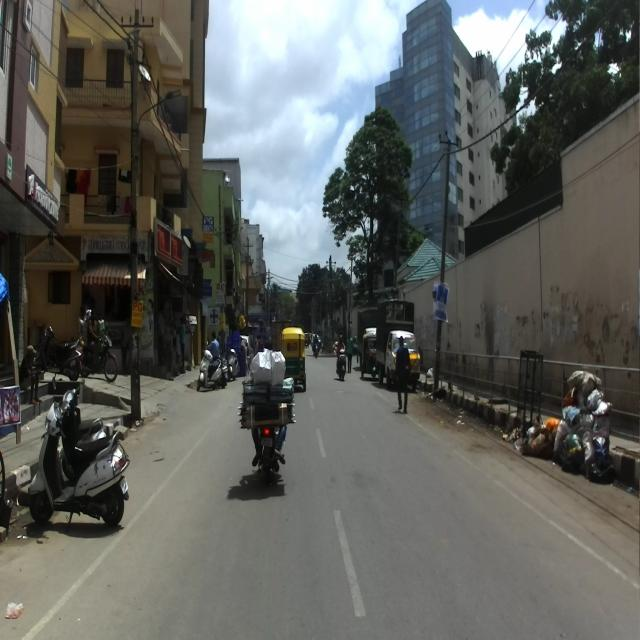scooter: (28, 376, 130, 532), (59, 386, 110, 481), (33, 321, 83, 381), (195, 348, 224, 388), (334, 342, 348, 378)
